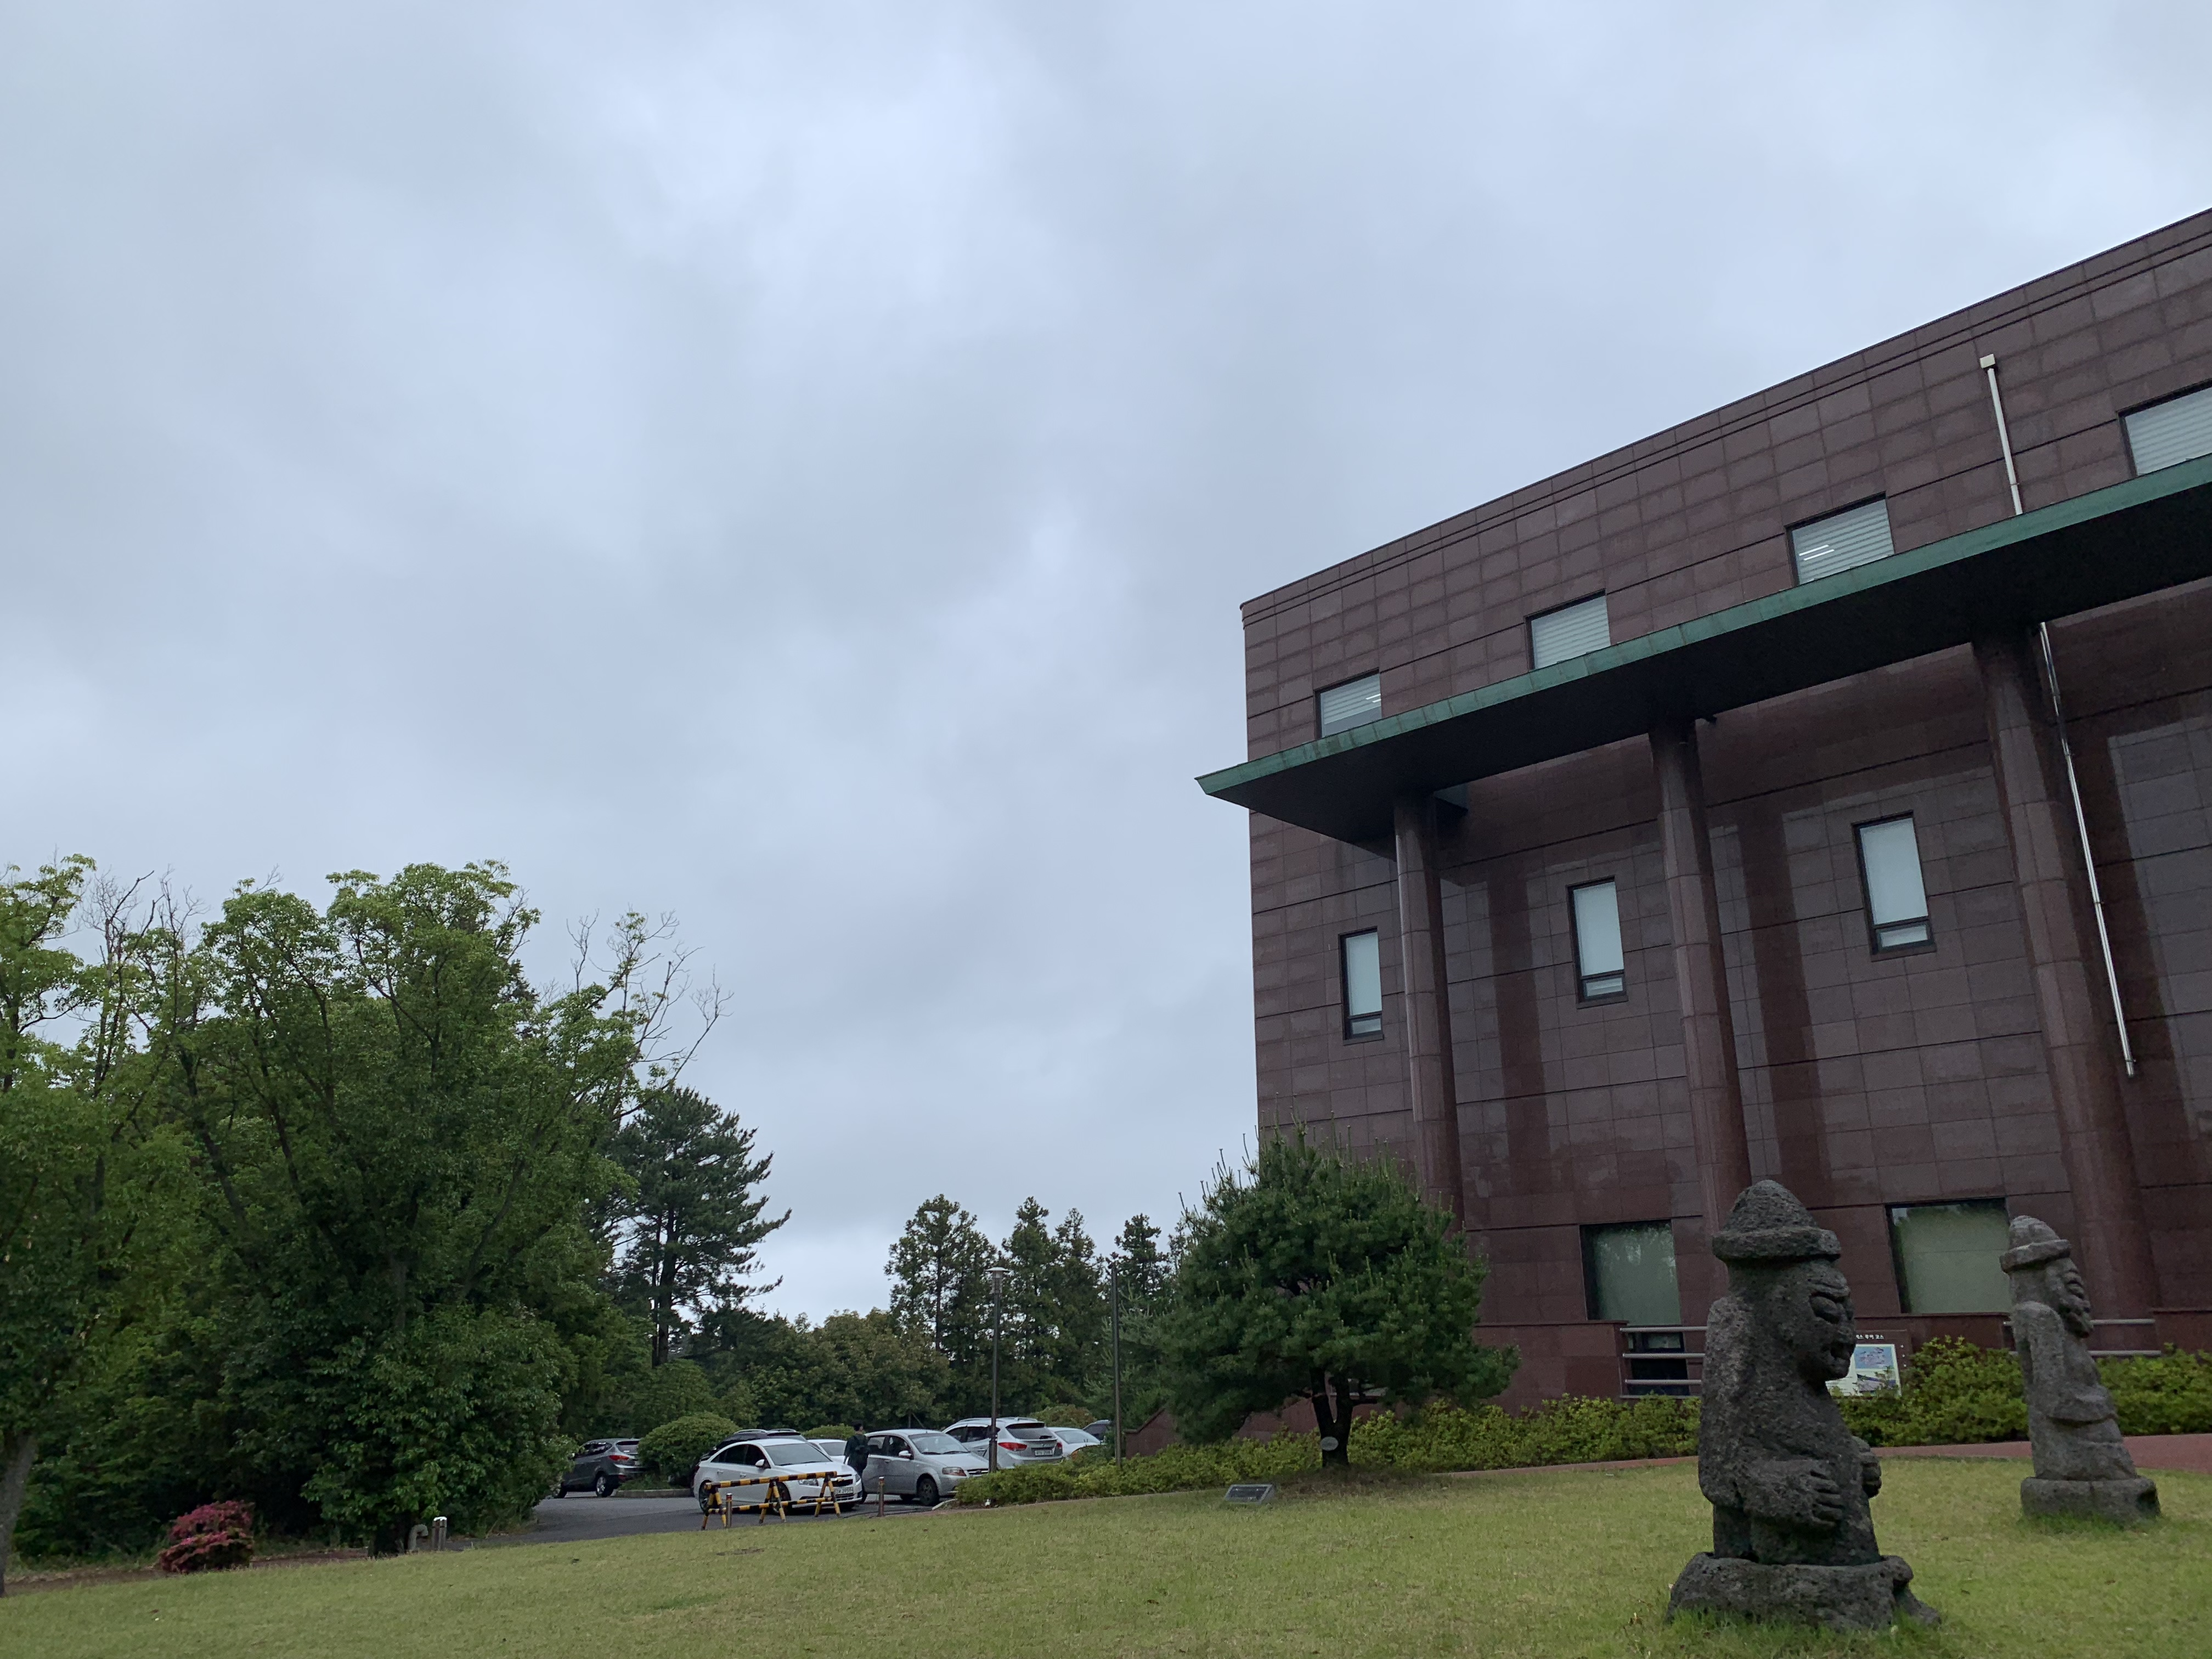Museum: (1176, 220, 2209, 1480)
